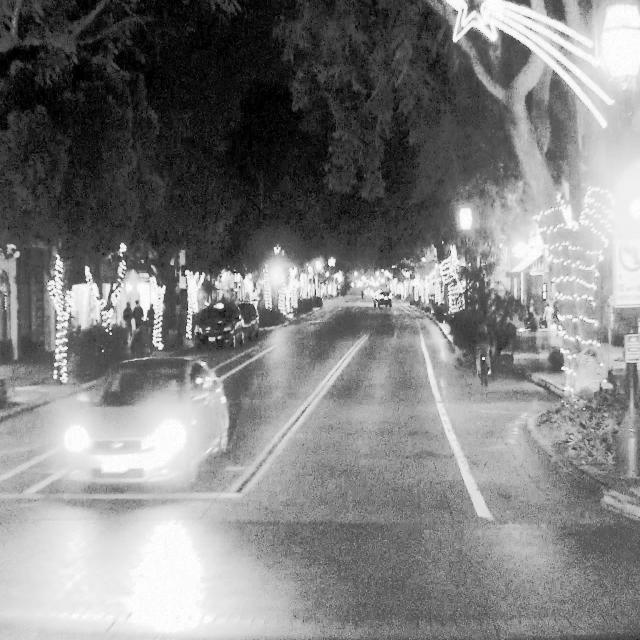Car: (59, 351, 228, 500)
Light: (602, 4, 637, 82)
Sign: (613, 194, 639, 306)
Tree: (505, 0, 619, 431)
